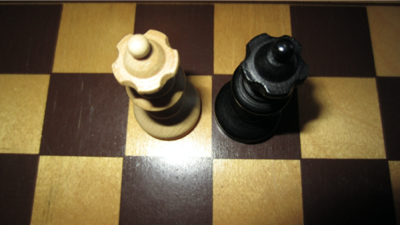black-queen: (215, 33, 311, 145)
white-queen: (111, 29, 203, 142)
